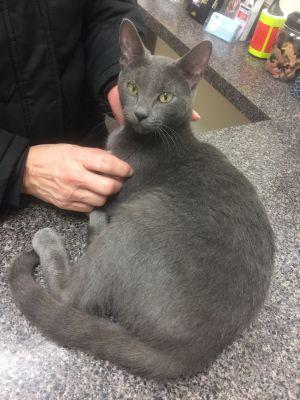rblue: (95, 9, 219, 149)
